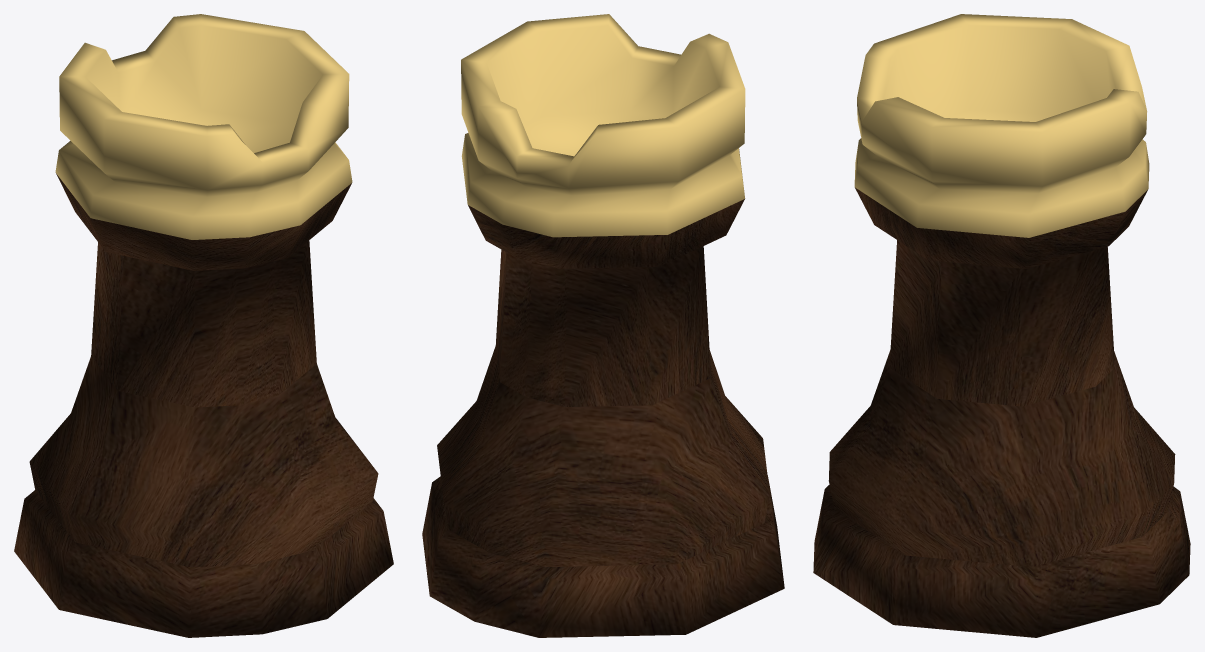
Rendered from gercek4_r_b.glb.
The picture shows the model from 3 angles, left to right: view 1: azimuth 30°, elevation 25°; view 2: azimuth 150°, elevation 25°; view 3: azimuth 270°, elevation 25°; orthographic projection.
Visible parts, largest first — view 1: r; view 2: r; view 3: r.
Boxes of the visible parts, bbox=[...] form: r: bbox=[14, 14, 393, 637]; r: bbox=[422, 14, 784, 637]; r: bbox=[813, 14, 1190, 637].
Size of the model in its own units: 0.6339 by 0.9 by 0.6339.
2 materials, 1 textured.
